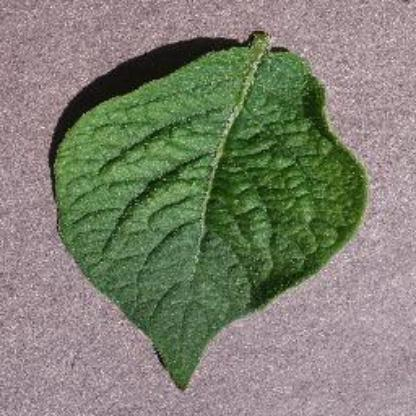Healthy-plant: (47, 25, 368, 397)
